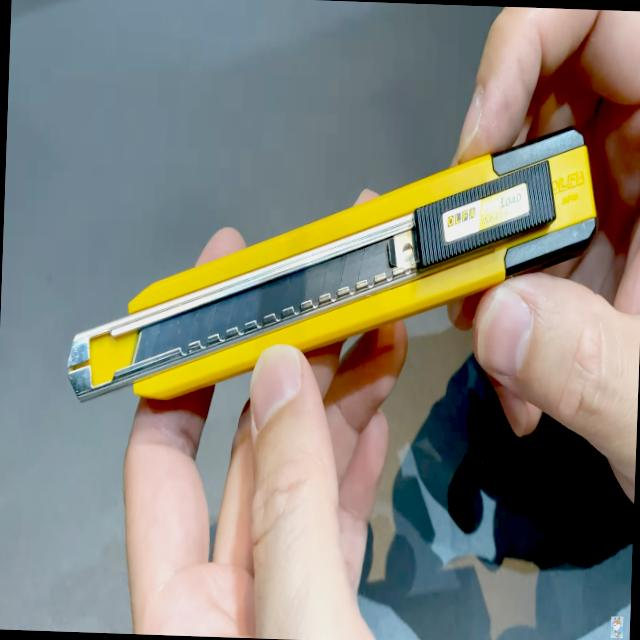cutter: (34, 5, 640, 640)
